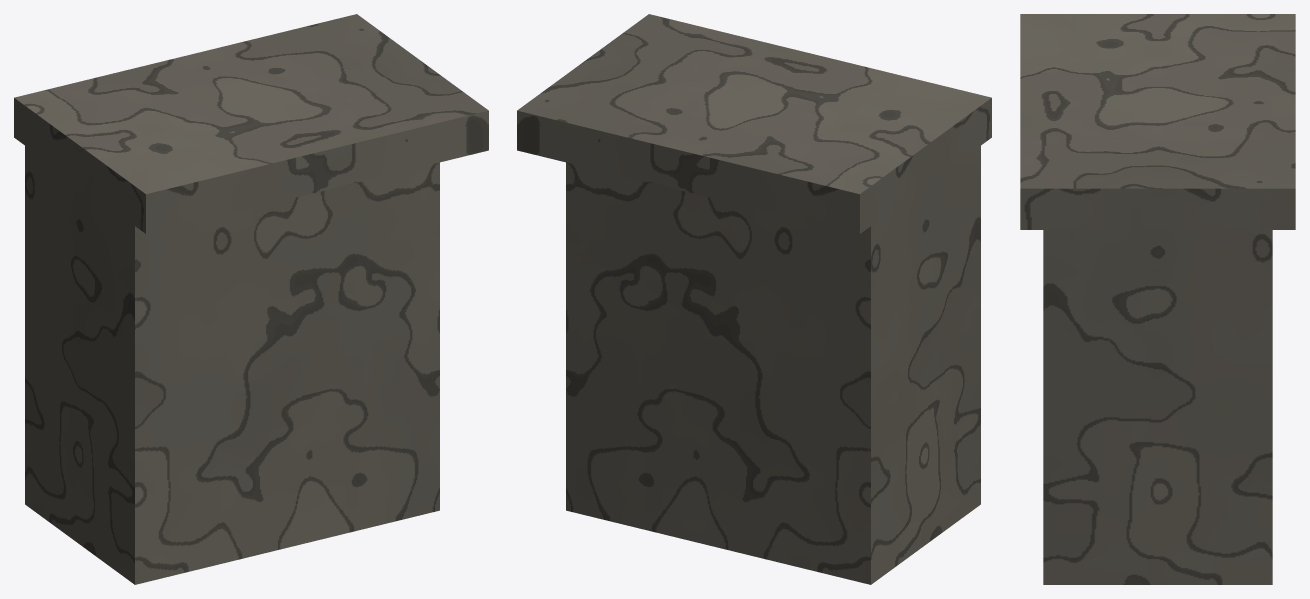
Rendered from foundation_plinth_end.glb.
3 renders of one model, left to right at view 1: azimuth 30°, elevation 25°; view 2: azimuth 150°, elevation 25°; view 3: azimuth 270°, elevation 25°, orthographic. The views are drawn at different scales.
Visible parts, largest first — view 1: foundation_plinth_end; view 2: foundation_plinth_end; view 3: foundation_plinth_end.
Part boxes in pixels (bbox=[...]): foundation_plinth_end: bbox=[14, 14, 488, 584]; foundation_plinth_end: bbox=[517, 14, 991, 584]; foundation_plinth_end: bbox=[1020, 14, 1295, 584].
Size of the model in its own units: 0.45 by 0.5 by 0.3.
1 material, 1 textured.
